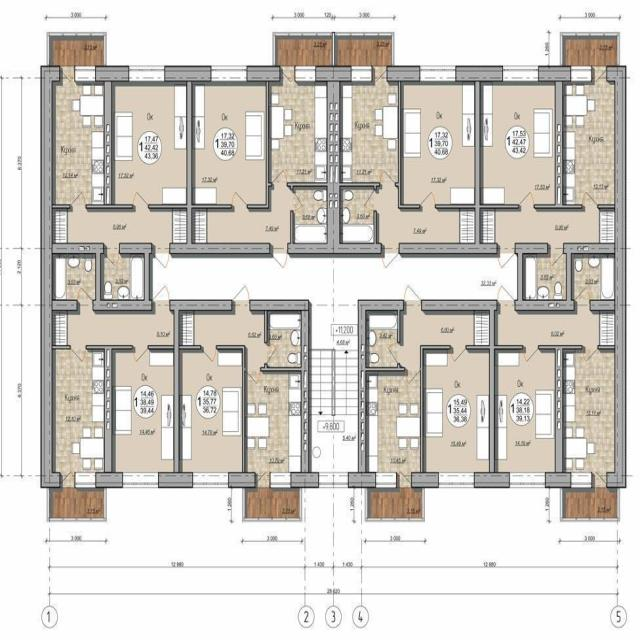Bathrooms: (523, 254, 566, 300), (101, 254, 144, 300), (53, 254, 95, 300), (293, 187, 327, 243), (572, 254, 614, 299), (267, 311, 300, 367), (366, 310, 398, 367), (340, 187, 373, 242)
Corridors: (149, 254, 518, 472), (377, 186, 474, 243), (192, 186, 290, 242), (400, 311, 489, 368), (179, 311, 264, 367), (53, 210, 186, 243), (481, 210, 614, 243), (496, 311, 614, 345), (53, 312, 173, 345), (275, 35, 332, 65), (335, 35, 392, 65), (367, 488, 422, 518), (50, 488, 104, 517), (563, 488, 617, 517), (563, 36, 617, 65), (246, 489, 299, 518), (50, 37, 104, 65)
Doors: (151, 284, 170, 312), (496, 243, 515, 270), (403, 284, 422, 311), (232, 285, 251, 312), (270, 242, 288, 270), (152, 242, 170, 270), (381, 243, 399, 270), (497, 284, 515, 310), (547, 243, 564, 269), (574, 285, 590, 311), (77, 285, 93, 311), (104, 243, 120, 268), (362, 189, 377, 212), (132, 190, 149, 210), (378, 168, 396, 186), (271, 168, 289, 186), (522, 344, 539, 363), (231, 190, 248, 209), (70, 190, 87, 209), (289, 190, 304, 211), (264, 342, 278, 364), (581, 345, 598, 363), (200, 345, 217, 363), (419, 190, 436, 208), (70, 345, 87, 363), (404, 367, 420, 386), (582, 190, 598, 209), (518, 190, 534, 209), (133, 345, 149, 364), (245, 367, 261, 385), (387, 342, 400, 364), (60, 471, 75, 488), (255, 471, 270, 488), (396, 471, 411, 488), (592, 471, 607, 488), (592, 66, 607, 82), (372, 66, 387, 82), (60, 66, 74, 83), (280, 66, 294, 82)
LBwalls: (249, 299, 319, 489), (348, 299, 405, 489), (606, 65, 627, 489), (40, 65, 61, 489), (315, 65, 352, 243), (95, 64, 129, 205), (539, 65, 571, 205), (95, 348, 123, 488), (545, 349, 570, 487), (169, 242, 270, 254), (399, 242, 498, 254), (287, 243, 382, 254), (421, 299, 497, 310), (165, 65, 211, 82), (455, 65, 502, 81), (170, 299, 232, 311), (514, 300, 575, 311), (52, 242, 105, 254), (474, 472, 510, 489), (93, 300, 152, 310), (247, 65, 280, 82), (387, 65, 420, 82), (563, 243, 614, 254), (158, 472, 193, 488), (228, 472, 255, 489), (411, 472, 439, 488), (119, 243, 152, 254), (515, 243, 548, 254), (52, 299, 78, 311), (590, 300, 615, 310)
Offices: (481, 82, 555, 204), (112, 83, 186, 204), (402, 82, 474, 204), (193, 82, 265, 204), (424, 350, 489, 472), (179, 349, 242, 472), (495, 349, 555, 472), (113, 350, 173, 472), (52, 350, 104, 472), (52, 81, 103, 204), (563, 82, 614, 204), (564, 350, 614, 472), (340, 82, 398, 182), (269, 82, 327, 182), (246, 372, 301, 472), (366, 371, 420, 472), (366, 371, 420, 471)
Walls: (148, 82, 232, 243), (435, 82, 519, 243), (466, 310, 523, 473), (148, 311, 201, 472), (272, 32, 395, 66), (420, 345, 451, 472), (216, 345, 245, 472), (395, 82, 420, 209), (247, 82, 272, 209), (46, 488, 107, 523), (242, 488, 303, 523), (559, 31, 620, 66), (560, 488, 620, 523), (364, 488, 425, 522), (46, 32, 107, 66), (260, 363, 301, 371), (287, 182, 327, 190), (366, 363, 404, 371), (340, 183, 380, 190), (517, 253, 523, 299), (566, 254, 572, 300), (534, 204, 583, 209), (86, 204, 133, 209), (86, 345, 133, 350), (538, 345, 583, 350), (373, 210, 377, 243), (264, 311, 268, 342), (290, 210, 293, 243), (397, 310, 400, 343), (52, 345, 71, 350), (53, 204, 70, 209), (598, 205, 615, 210), (598, 345, 615, 350)
Windows: (420, 65, 456, 83), (502, 65, 539, 82), (510, 471, 545, 488), (129, 65, 164, 82), (211, 66, 247, 82), (193, 472, 228, 488), (439, 472, 474, 488), (122, 472, 158, 487), (319, 472, 348, 488), (375, 471, 397, 489), (270, 471, 291, 489), (570, 472, 592, 489), (75, 472, 96, 489), (571, 66, 593, 82), (295, 66, 316, 82), (352, 66, 372, 81), (75, 66, 95, 81)
